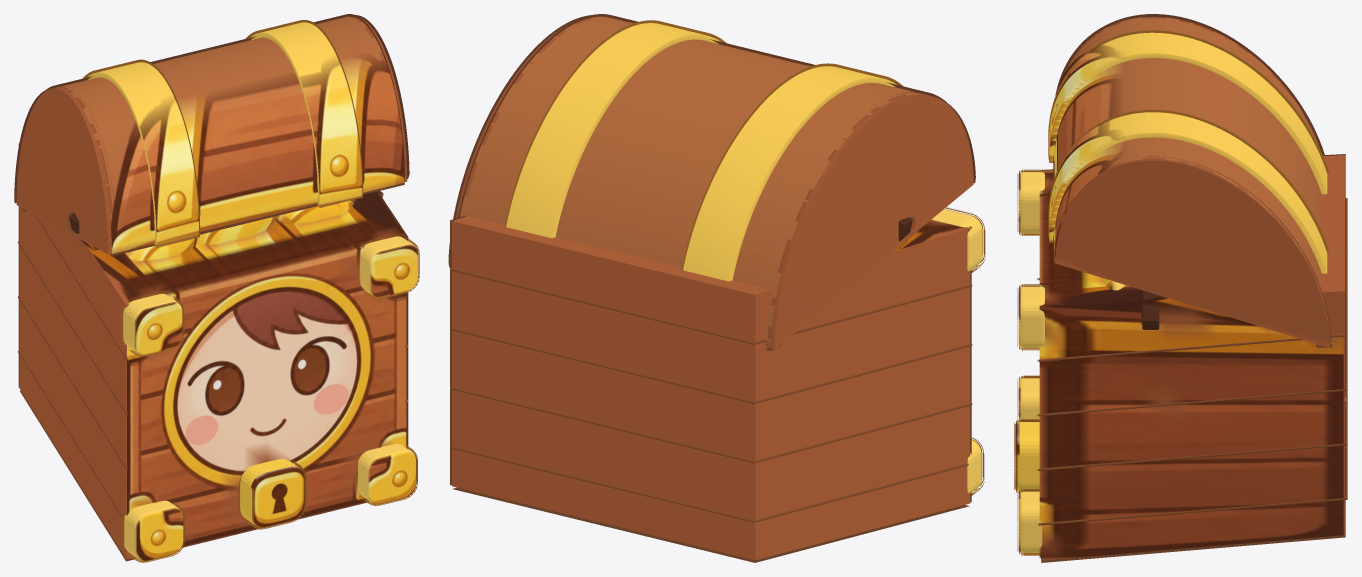
Rendered from object-treasure-chest.glb.
The picture shows the model from 3 angles, left to right: view 1: azimuth 30°, elevation 25°; view 2: azimuth 150°, elevation 25°; view 3: azimuth 270°, elevation 25°; orthographic projection. The views are drawn at different scales.
Parts seen in each view (by area): view 1: ChestBoxSolidOriginalPaint, ChestBoxSolid, ArchedLidSolid, LidEndCap0Solid, LidStrap176Solid, BrassCorner0Solid, ArchedLidSolidInkShell, RearPlank326, ChestBoxSolidInkShell, LidStrap176SolidInkShell, BrassCorner0SolidInkShell, ChestLockSolid; view 2: ChestBoxSolid, ArchedLidSolid, LidEndCap0Solid, LidStrap176Solid, RearPlank326, ChestBoxSolidInkShell, ArchedLidSolidInkShell, LidStrap176SolidInkShell, BrassCorner0Solid, ChestBoxSolidOriginalPaint; view 3: ChestBoxSolidOriginalPaint, LidEndCap0Solid, ArchedLidSolid, LidStrap176Solid, ChestBoxSolid, BrassCorner0Solid, RearPlank326, LidStrap176SolidInkShell, ArchedLidSolidInkShell, ChestLockSolid, ChestBoxSolidInkShell, BrassCorner0SolidInkShell (+1 smaller).
Part boxes in pixels (x1=…): ChestBoxSolidOriginalPaint: x1=86, y1=55, x2=417, y2=560; ChestBoxSolid: x1=19, y1=207, x2=402, y2=559; ArchedLidSolid: x1=56, y1=16, x2=403, y2=253; LidEndCap0Solid: x1=16, y1=16, x2=407, y2=254; LidStrap176Solid: x1=87, y1=22, x2=361, y2=245; BrassCorner0Solid: x1=123, y1=236, x2=415, y2=560; ArchedLidSolidInkShell: x1=14, y1=14, x2=409, y2=255; RearPlank326: x1=18, y1=215, x2=407, y2=520; ChestBoxSolidInkShell: x1=18, y1=143, x2=408, y2=561; LidStrap176SolidInkShell: x1=83, y1=20, x2=363, y2=247; BrassCorner0SolidInkShell: x1=120, y1=234, x2=419, y2=562; ChestLockSolid: x1=240, y1=458, x2=298, y2=526; ChestBoxSolid: x1=452, y1=216, x2=970, y2=560; ArchedLidSolid: x1=460, y1=16, x2=921, y2=347; LidEndCap0Solid: x1=455, y1=16, x2=973, y2=348; LidStrap176Solid: x1=506, y1=23, x2=897, y2=281; RearPlank326: x1=450, y1=268, x2=972, y2=522; ChestBoxSolidInkShell: x1=450, y1=215, x2=971, y2=562; ArchedLidSolidInkShell: x1=448, y1=14, x2=975, y2=350; LidStrap176SolidInkShell: x1=504, y1=20, x2=902, y2=270; BrassCorner0Solid: x1=931, y1=209, x2=982, y2=493; ChestBoxSolidOriginalPaint: x1=622, y1=20, x2=963, y2=251; ChestBoxSolidOriginalPaint: x1=1015, y1=45, x2=1344, y2=558; LidEndCap0Solid: x1=1055, y1=16, x2=1330, y2=347; ArchedLidSolid: x1=1056, y1=17, x2=1330, y2=345; LidStrap176Solid: x1=1050, y1=32, x2=1327, y2=273; ChestBoxSolid: x1=1041, y1=155, x2=1344, y2=560; BrassCorner0Solid: x1=1020, y1=172, x2=1044, y2=552; RearPlank326: x1=1038, y1=198, x2=1347, y2=525; LidStrap176SolidInkShell: x1=1048, y1=30, x2=1329, y2=252; ArchedLidSolidInkShell: x1=1053, y1=14, x2=1332, y2=347; ChestLockSolid: x1=1017, y1=422, x2=1039, y2=491; ChestBoxSolidInkShell: x1=1041, y1=154, x2=1345, y2=562; BrassCorner0SolidInkShell: x1=1017, y1=169, x2=1045, y2=555.
Size of the model in its own units: 1.9 by 2.2 by 1.58.
Materials: 17 (1 with a texture image).
